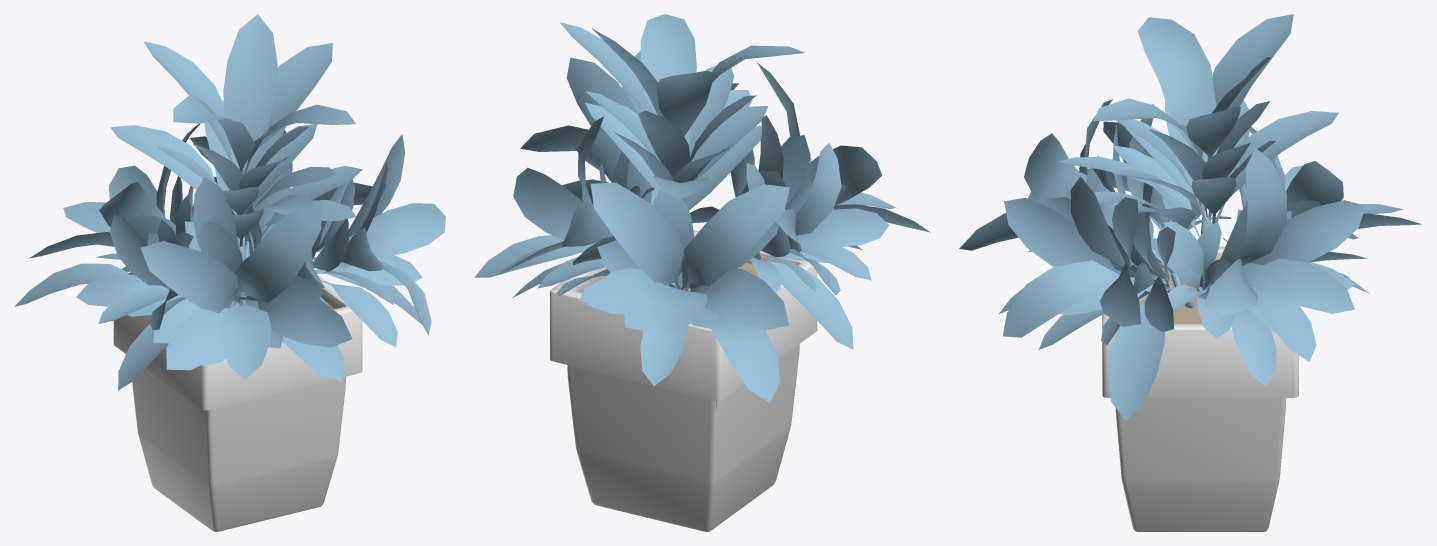
Rendered from Plant08.FBX.
3 views of the same model, side by side, from view 1: azimuth 30°, elevation 25°; view 2: azimuth 150°, elevation 25°; view 3: azimuth 270°, elevation 25° (orthographic). The views are drawn at different scales.
Visible parts, largest first — view 1: Plant08; view 2: Plant08; view 3: Plant08.
Boxes of the visible parts, bbox=[...] form: Plant08: bbox=[14, 14, 445, 531]; Plant08: bbox=[474, 14, 930, 531]; Plant08: bbox=[959, 14, 1421, 531].
Size of the model in its own units: 53.31 by 59.65 by 67.22.
